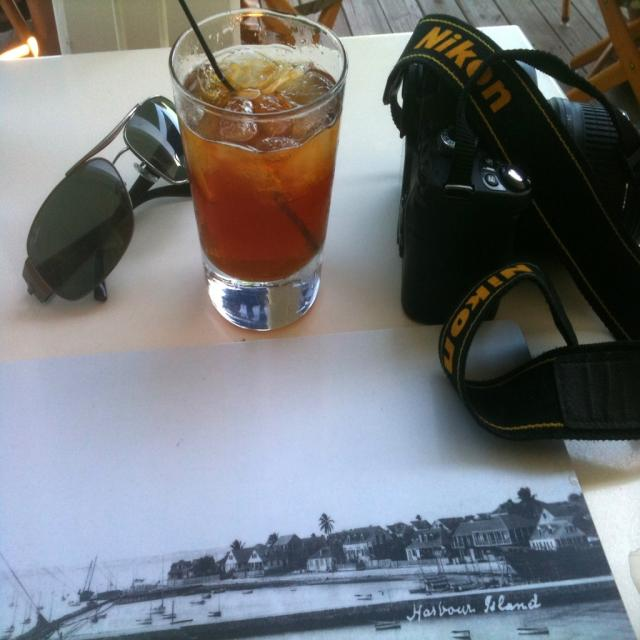Tea: (178, 45, 340, 282)
